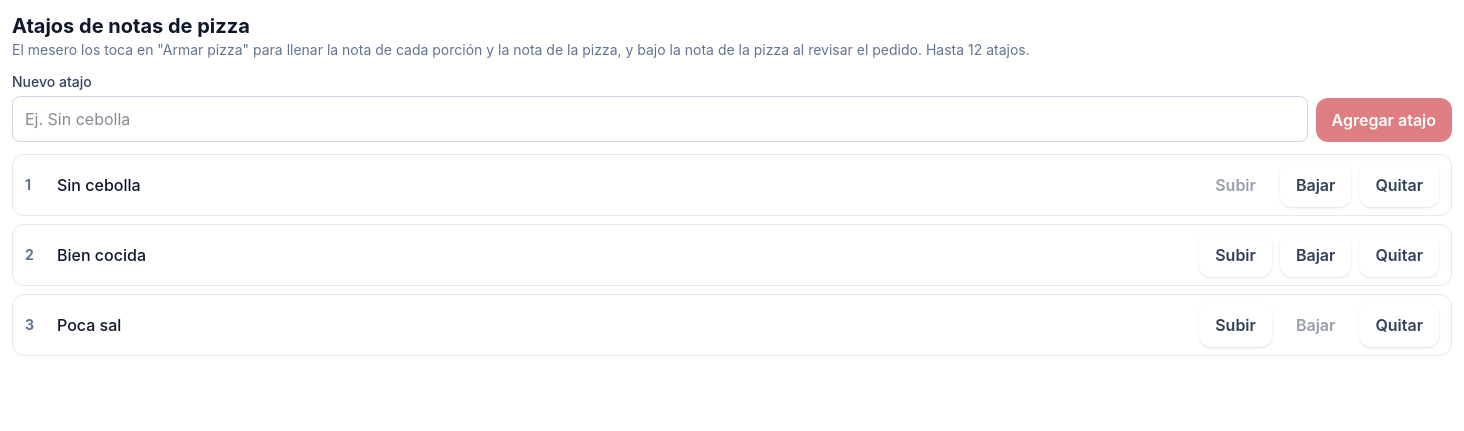
Test case: NoteShortcutsSection › shows the server message and keeps the typed text when adding fails
Expected: the list named "Atajos de notas de pizza" is shown, [12, 154, 1452, 356]
Type "Poca sal" into the field labelled "Nuevo atajo".
click(660, 119); type("Poca sal")  # box [12, 96, 1308, 142]
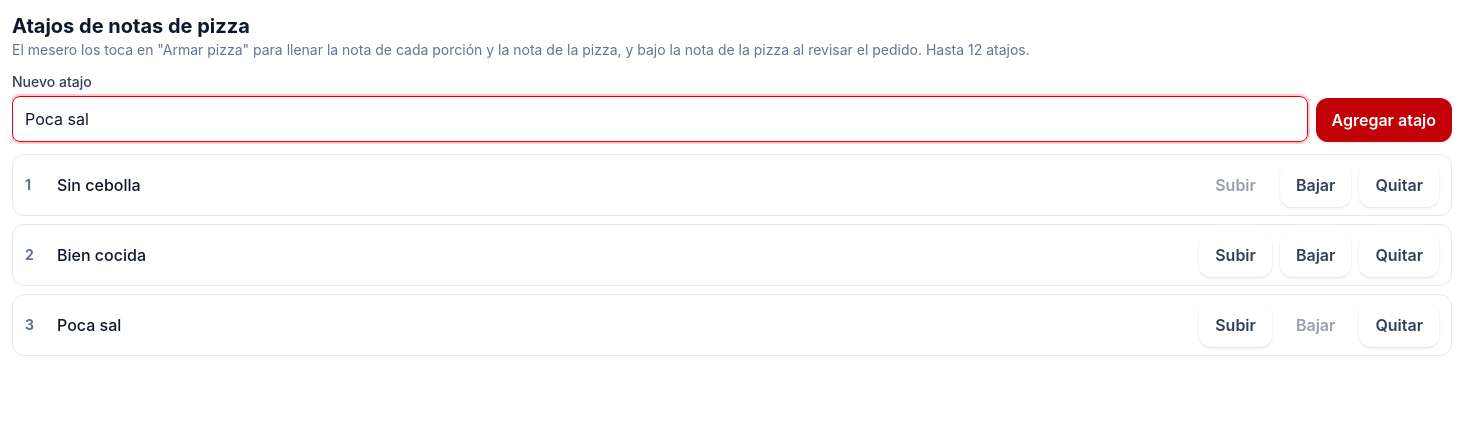
Click the button "Agregar atajo".
click(1384, 120)  # box [1316, 98, 1452, 142]
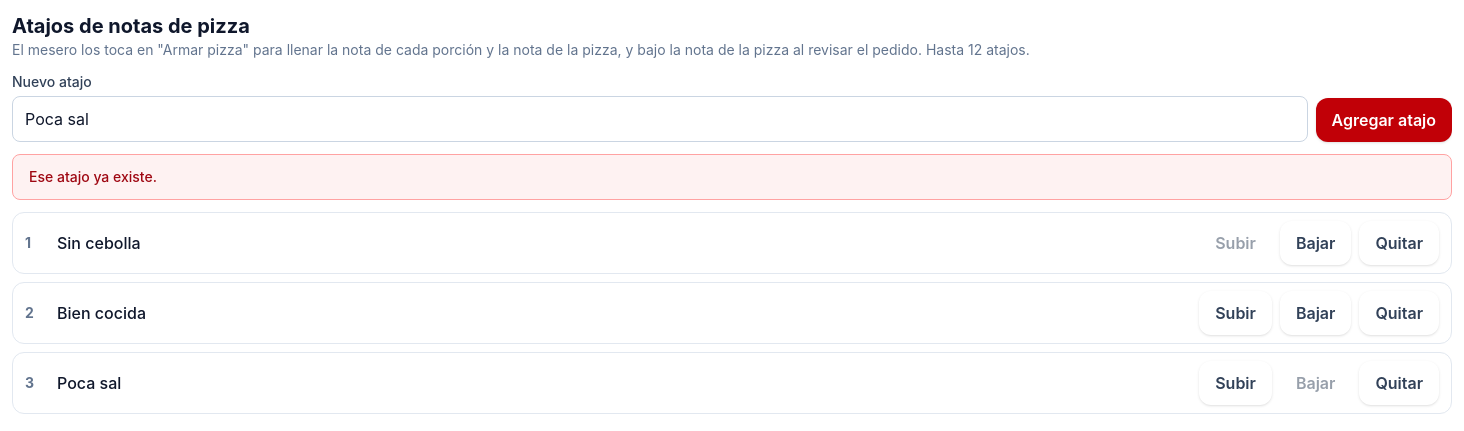
Now the text "Ese atajo ya existe." is shown, box [12, 154, 1452, 200]
